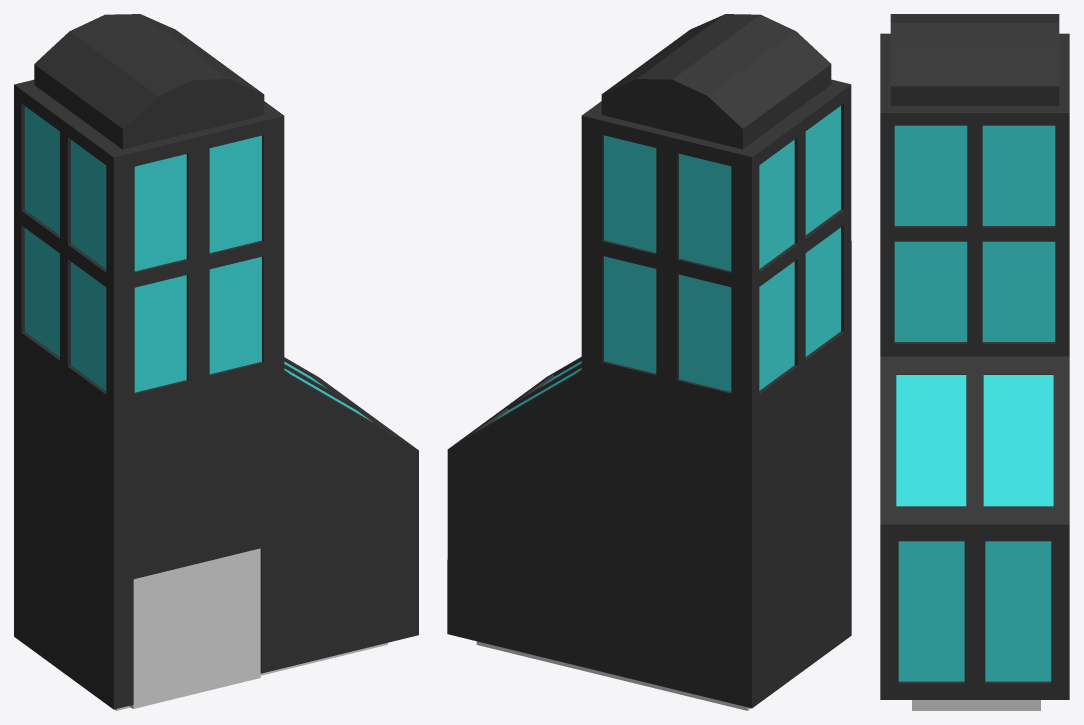
Rendered from Residential_Tower_05.fbx.
3 renders of one model, left to right at view 1: azimuth 30°, elevation 25°; view 2: azimuth 150°, elevation 25°; view 3: azimuth 270°, elevation 25°, orthographic. The views are drawn at different scales.
Parts seen in each view (by area): view 1: Cube, Cube.001; view 2: Cube, Cube.002; view 3: Cube, Cube.002.
Boxes of the visible parts, bbox=[...] form: Cube: bbox=[14, 14, 418, 709]; Cube.001: bbox=[129, 548, 260, 708]; Cube: bbox=[447, 14, 851, 708]; Cube.002: bbox=[476, 641, 750, 710]; Cube: bbox=[880, 14, 1069, 699]; Cube.002: bbox=[912, 700, 1040, 710].
Bounding box in the file's own units: 1761 × 3438 × 995.
